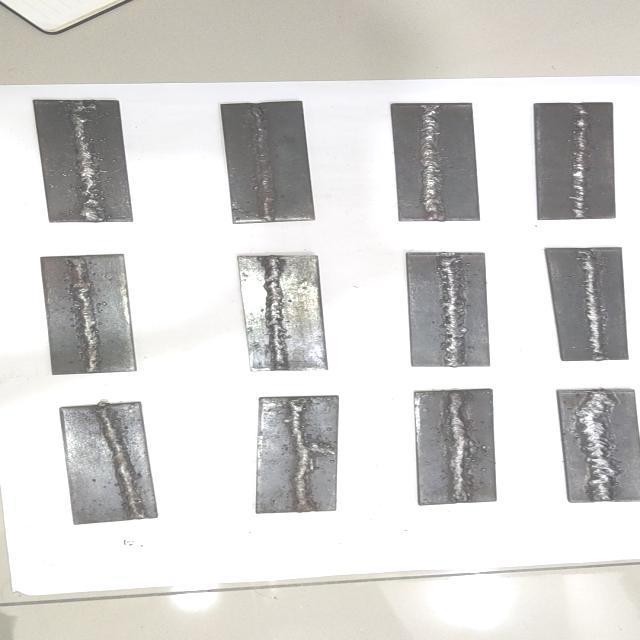Defect: (568, 388, 619, 502), (61, 100, 107, 120), (290, 442, 338, 459)
Welding Line: (96, 406, 146, 516), (568, 392, 617, 499), (69, 102, 105, 220), (66, 258, 100, 372), (438, 254, 466, 366), (579, 250, 607, 358), (261, 257, 288, 368), (288, 398, 314, 512), (418, 105, 442, 218), (446, 391, 470, 501), (568, 105, 590, 218), (253, 106, 274, 218)
Workpiece: (28, 98, 136, 225), (216, 99, 320, 225), (60, 401, 162, 526), (38, 251, 138, 375), (388, 101, 482, 222), (236, 254, 330, 372), (532, 100, 620, 220), (403, 250, 492, 368), (412, 388, 500, 506), (254, 394, 340, 514), (544, 246, 633, 361), (555, 387, 640, 504)
